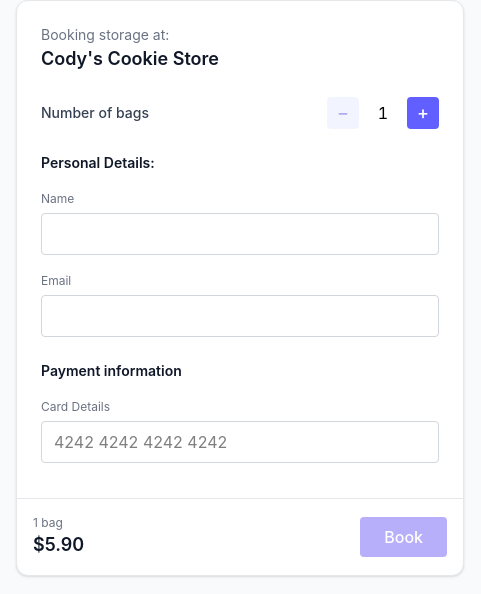
Test: BookingForm › keeps Book disabled until the form is valid
This screenshot has width=481, height=594.
Expected: the heading "Cody's Cookie Store" is shown, left=41, top=48, right=219, bottom=69
Expected: the button "Book" is disabled, left=360, top=517, right=447, bottom=557
In the field labelled "Name": (240, 234) left=41, top=213, right=439, bottom=255, type "John Doe"
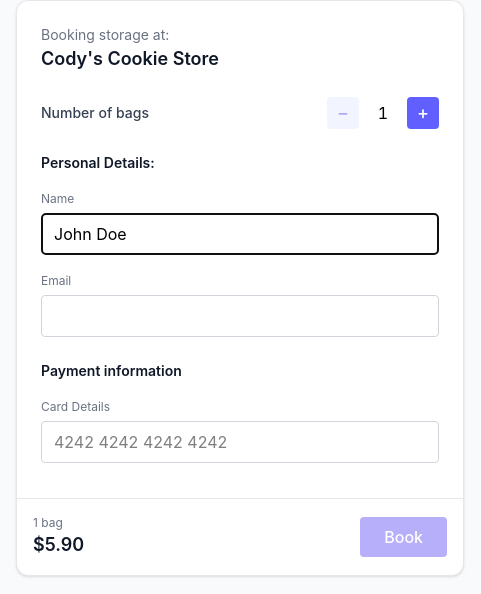
In the field labelled "Email": (240, 316) left=41, top=295, right=439, bottom=337, type "john@doe.com"
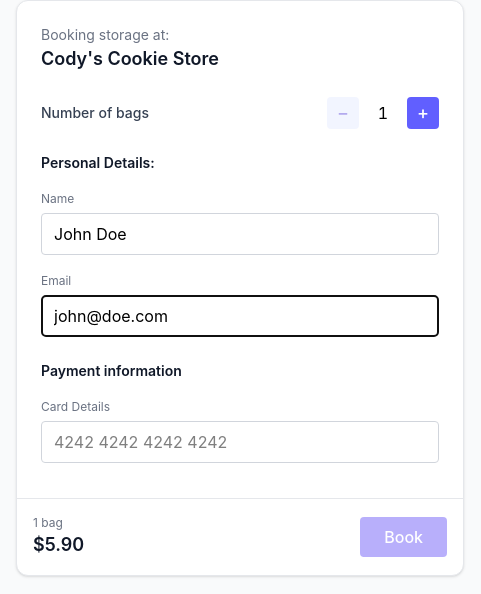
In the field labelled "Card Details": (240, 442) left=41, top=421, right=439, bottom=463, type "4242424242424242"
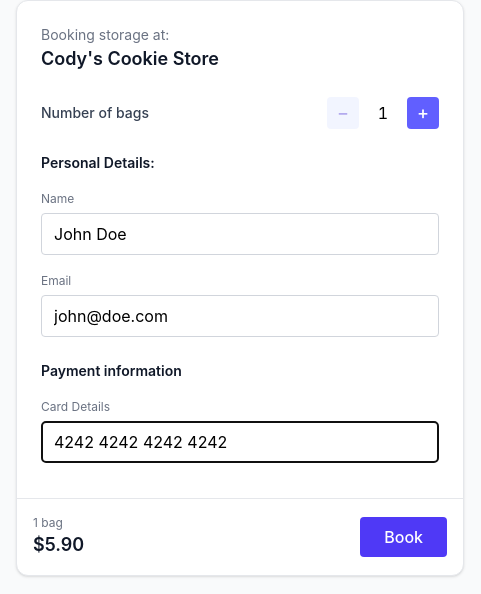
Now the button "Book" is enabled, box left=360, top=517, right=447, bottom=557
